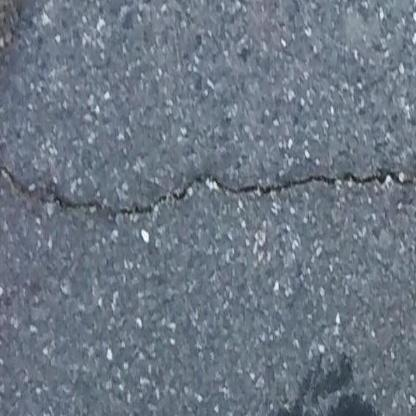Cracks: (0, 145, 416, 222), (0, 0, 50, 114)
